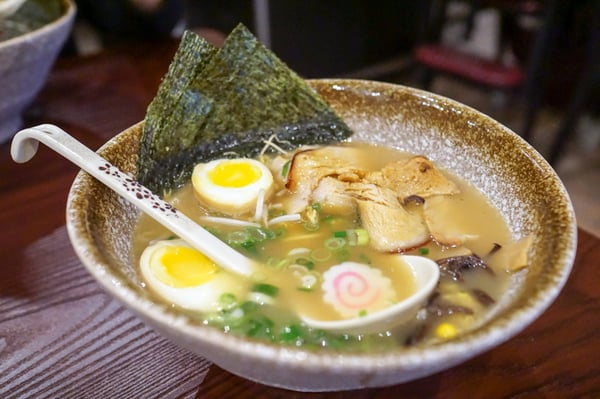curry: (137, 23, 352, 198)
salad: (48, 117, 410, 329), (11, 121, 269, 282)
sushi: (35, 78, 579, 389), (0, 0, 78, 138)
